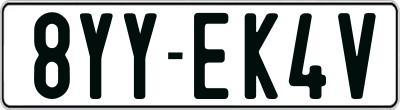4: (286, 10, 325, 98)
8: (33, 12, 72, 104)
E: (193, 10, 228, 102)
K: (243, 11, 278, 97)
V: (336, 13, 376, 103)
Y: (121, 11, 160, 103), (77, 10, 114, 98)
